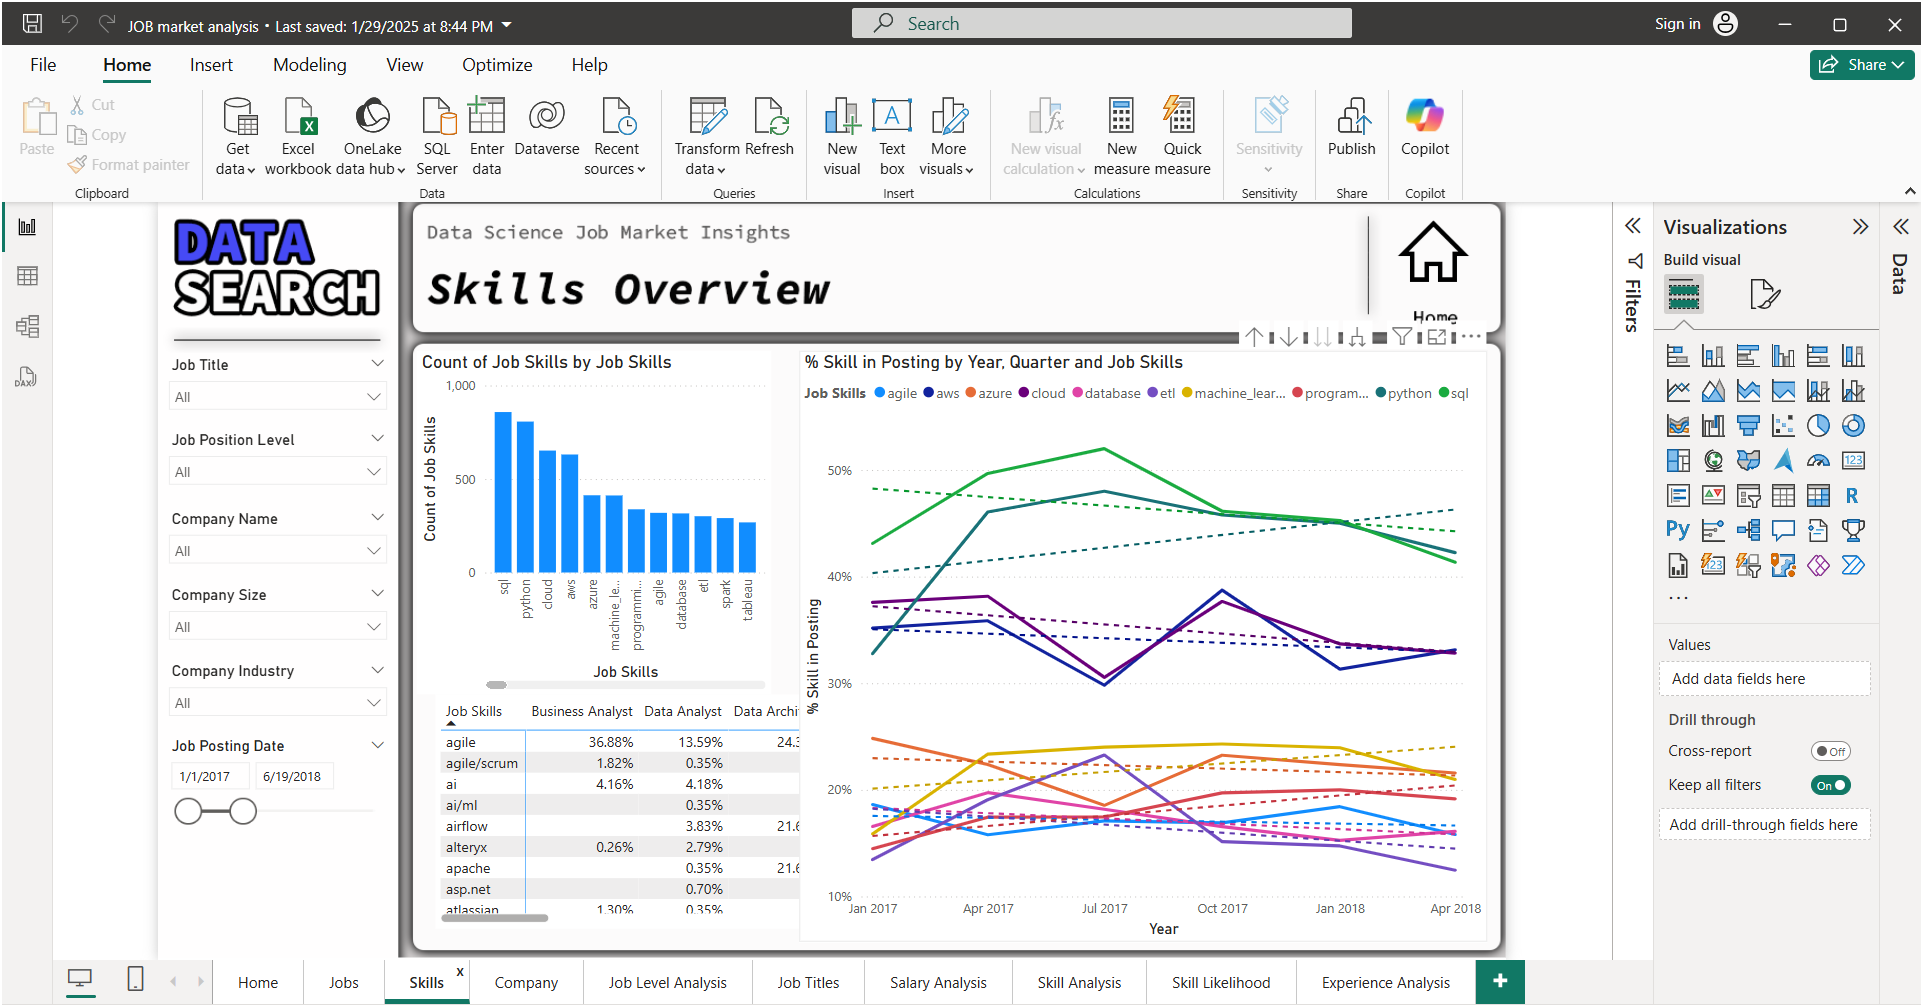

The page's visual inventory and layout, read from the dashboard file:
{"tool":"powerbi","page":{"name":"Skill Likelihood","canvas":[1280,720],"ordinal":8},"visuals":[{"type":"pivotTable","fields":{"Rows":["Job Skills.Job Skills"],"Values":["_Measures.% Skill in Posting"],"Columns":["Job Postings.Job Title"]},"box":[828.2,0,451.8,719.8],"z":0},{"type":"lineChart","fields":{"Category":["Job Postings.Job Posting Date.Variation.Date Hierarchy.Year","Job Postings.Job Posting Date.Variation.Date Hierarchy.Quarter","Job Postings.Job Posting Date.Variation.Date Hierarchy.Month","Job Postings.Job Posting Date.Variation.Date Hierarchy.Day"],"Y":["_Measures.% Skill in Posting"],"Series":["Job Skills.Job Skills"]},"box":[0,0,820.2,559.2],"z":1000},{"type":"slicer","fields":{"Values":["Job Postings.Job Title"]},"box":[0,559.2,417.6,160.6],"z":2000},{"type":"slicer","fields":{"Values":["Job Skills.Job Skills"]},"box":[418,559,402,161],"z":3000}]}

Visuals, with their boxes on the page's 1280x720 design canvas (x1, y1, x2, y2). These are canvas units, not pixel positions in the 1923x1007 screenshot, which may show the page scaled, cropped or inside an application window:
pivotTable - Job Skills.Job Skills x _Measures.% Skill in Posting: detection(828, 0, 1280, 720)
lineChart - Job Postings.Job Posting Date.Variation.Date Hierarchy.Year x Job Postings.Job Posting Date.Variation.Date Hierarchy.Quarter: detection(0, 0, 820, 559)
slicer - Job Postings.Job Title: detection(0, 559, 418, 720)
slicer - Job Skills.Job Skills: detection(418, 559, 820, 720)
